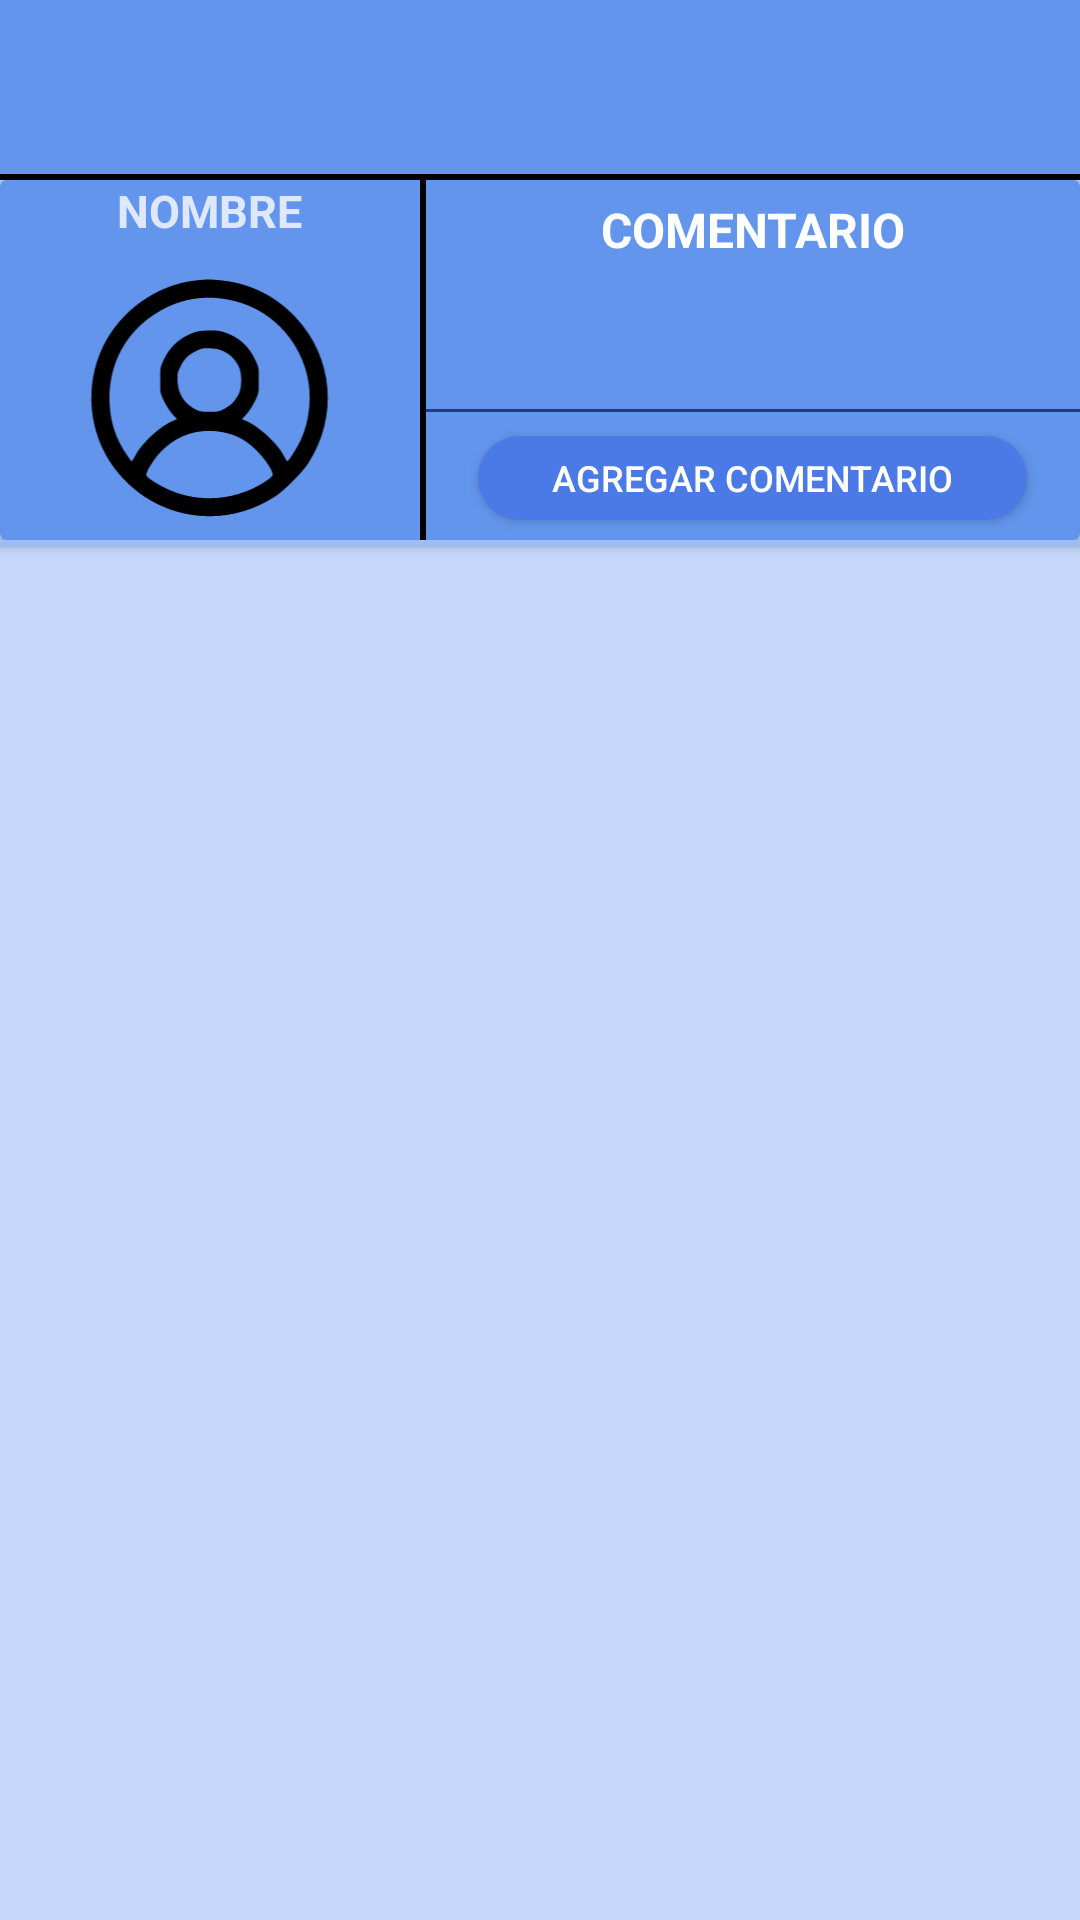

Point at icon controls on the screen. Image size 1080px×1920px, points as (x,y).
perfil: (209,398)
